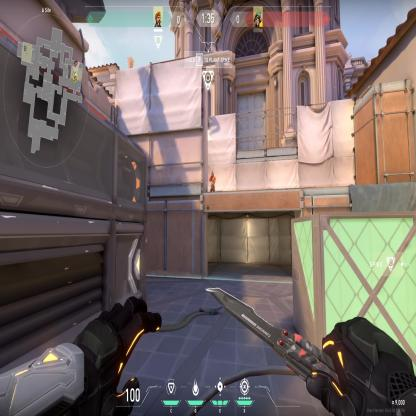enemy: (208, 170, 216, 192)
